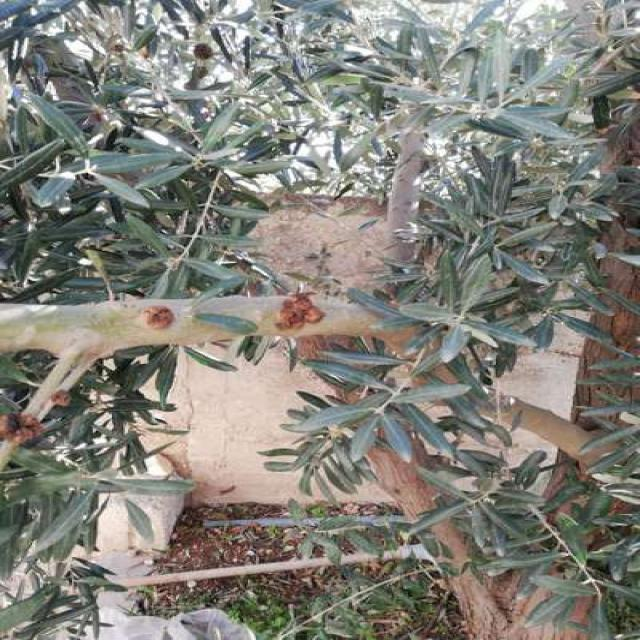Tuberculosis: (275, 290, 317, 332), (142, 306, 170, 329)
